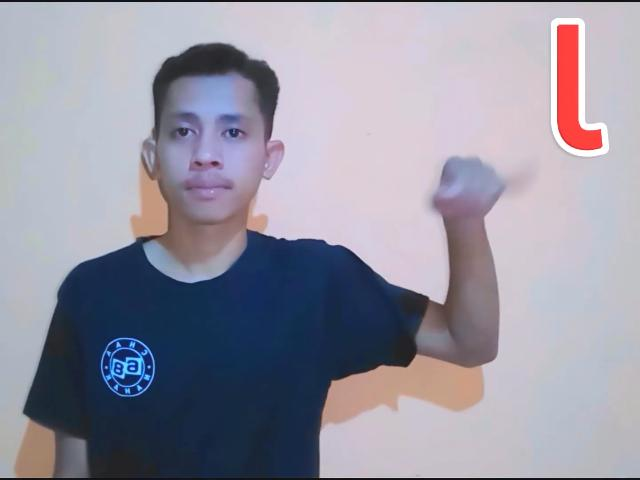J: (416, 154, 540, 224)
